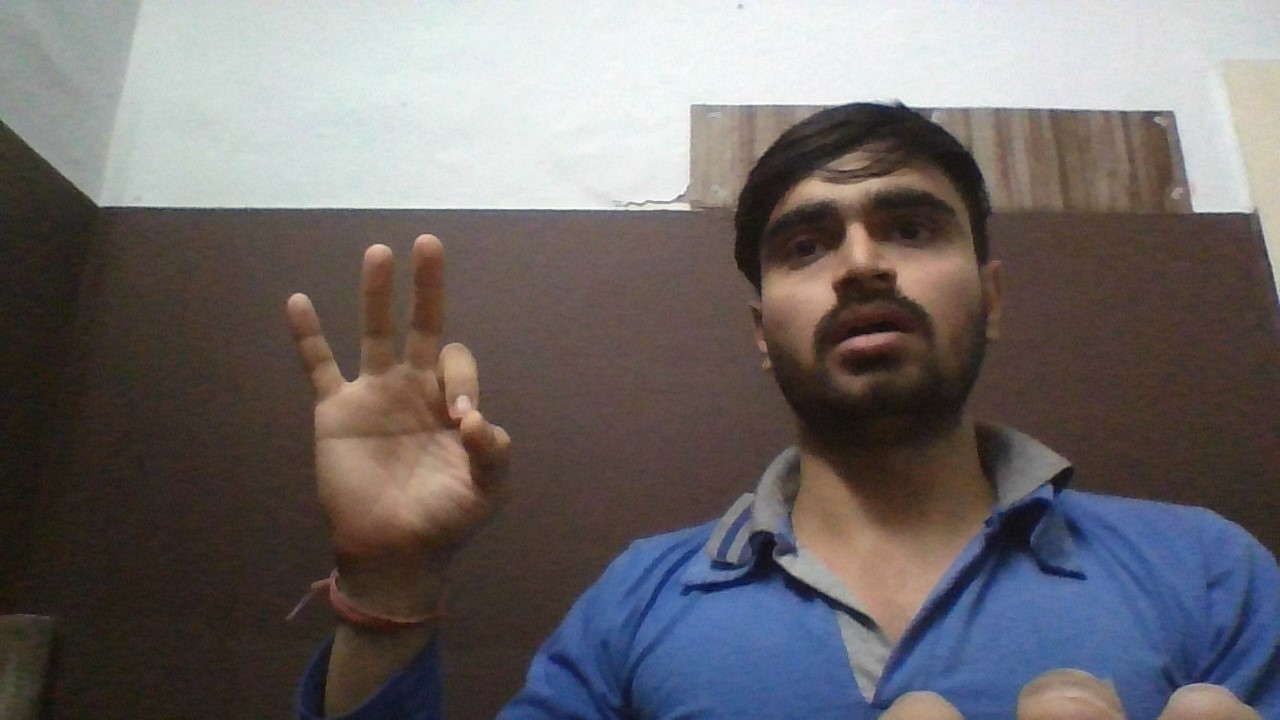F: (268, 226, 529, 580)
